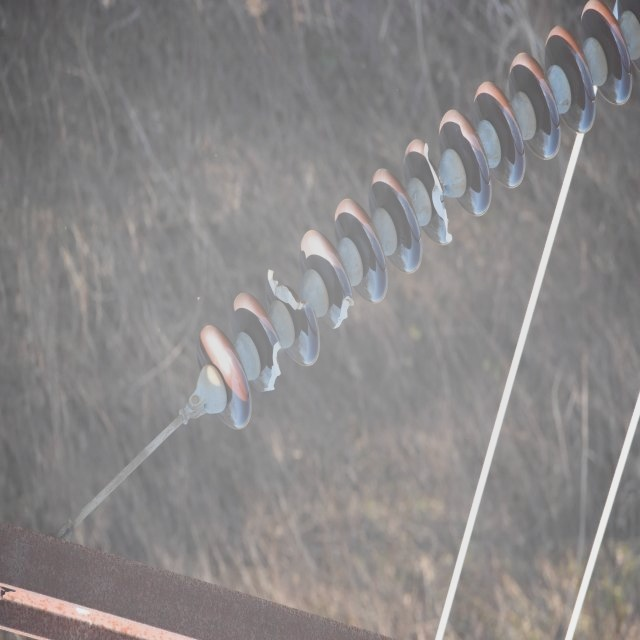broken: (423, 140, 451, 250), (266, 267, 312, 315), (262, 338, 283, 397), (331, 291, 355, 332)
insulator: (198, 0, 632, 435)
